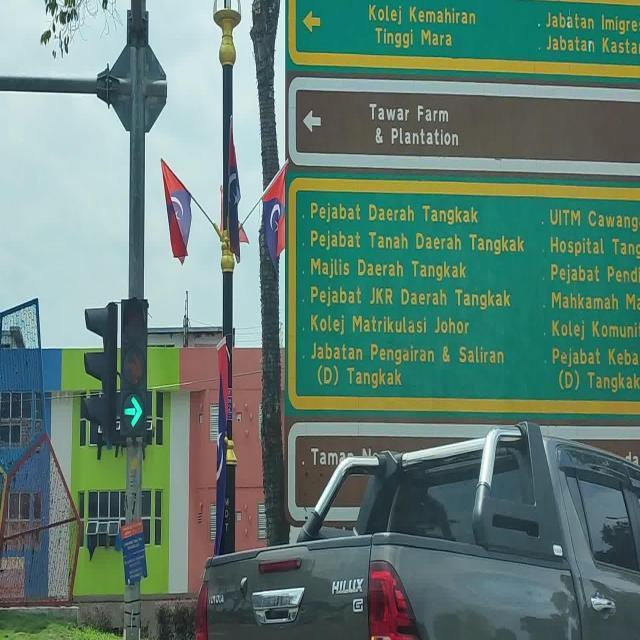green_light: (120, 298, 148, 436)
